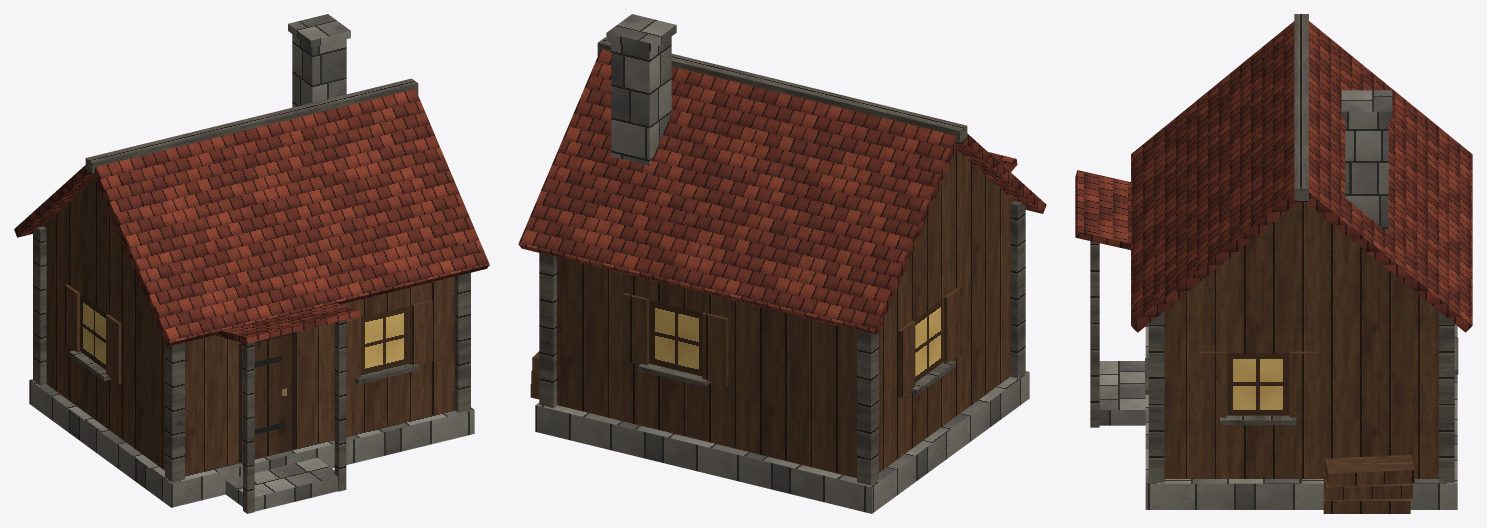
Rendered from casa_madera_noche.obj.
3 views of the same model, side by side, from view 1: azimuth 30°, elevation 25°; view 2: azimuth 150°, elevation 25°; view 3: azimuth 270°, elevation 25° (orthographic). The views are drawn at different scales.
Visible parts, largest first — view 1: casa_madera_noche; view 2: casa_madera_noche; view 3: casa_madera_noche.
Boxes of the visible parts, x1,y1,x2,y2 form: casa_madera_noche: (14,14,489,513); casa_madera_noche: (518,14,1046,513); casa_madera_noche: (1075,14,1472,513).
Bounding box in the file's own units: 6.01 × 5.78 × 5.47.
Materials: 6 (6 with a texture image).
